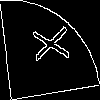X: (24, 25, 70, 65)
